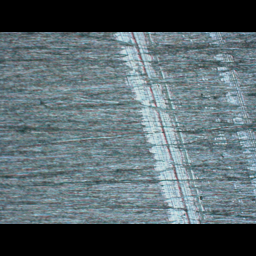d: (113, 32, 209, 223), (209, 32, 255, 195)
